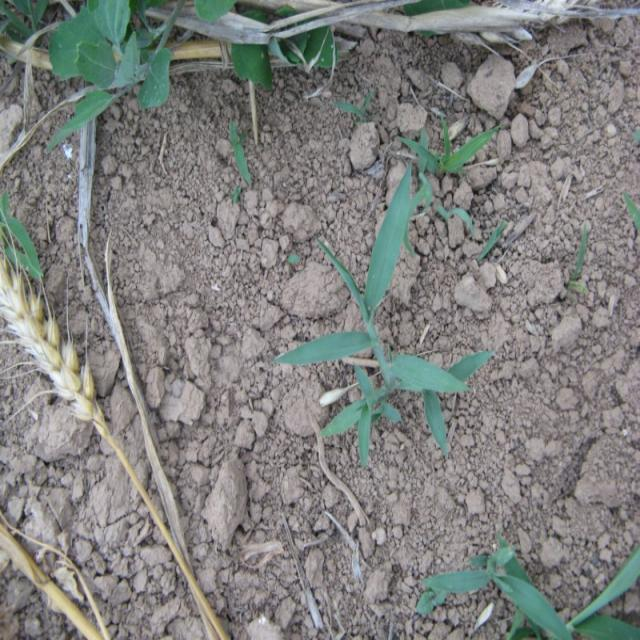bg: (281, 163, 499, 465)
